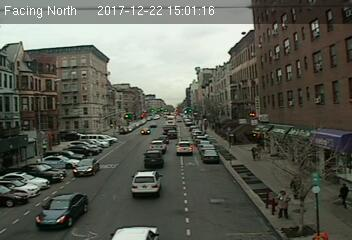car: (35, 192, 90, 231), (129, 170, 165, 198), (72, 158, 100, 176), (142, 149, 165, 168), (174, 141, 195, 156), (202, 149, 220, 164), (149, 139, 166, 151)
